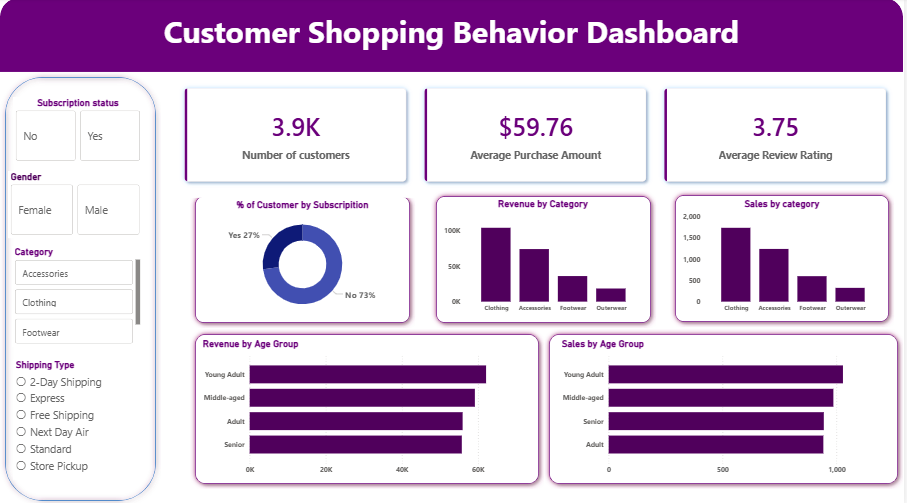

The dashboard page shown, as its layout file describes it:
{"tool":"powerbi","page":{"name":"Page 1","canvas":[1600,900],"ordinal":0},"visuals":[{"type":"shape","box":[336.6,586.4,627.2,283.5],"z":0},{"type":"shape","box":[336.6,341.9,398.6,242.7],"z":1000},{"type":"cardVisual","fields":{"Data":["public customer.Number of customers","public customer.Average Purchase Amount","public customer.Average Review Rating"]},"box":[297.6,131.1,1302.2,223.2],"z":2000},{"type":"shape","box":[0,0,1599.8,131.1],"z":3000},{"type":"textbox","box":[0,15.9,1599.8,115.2],"z":4000},{"type":"donutChart","title":"% of Customer by Subscripition","fields":{"Category":["public customer.subscription_status"],"Y":["CountNonNull(public customer.customer_id)"]},"box":[354.3,356.1,363.2,212.6],"z":5000},{"type":"shape","box":[763.6,341.9,398.6,242.7],"z":6000},{"type":"clusteredColumnChart","title":"Revenue by Category","fields":{"Category":["public customer.category"],"Y":["Sum(public customer.purchase_amount)"]},"box":[780.4,354.3,361.4,212.6],"z":7000},{"type":"shape","box":[1187,340.2,396.9,242.7],"z":8000},{"type":"clusteredColumnChart","title":"Sales by category","fields":{"Category":["public customer.category"],"Y":["CountNonNull(public customer.customer_id)"]},"box":[1204.7,354.3,361.4,212.6],"z":9000},{"type":"shape","box":[0,131.1,285.2,768.9],"z":10000},{"type":"advancedSlicerVisual","title":"Subscription status","fields":{"Values":["public customer.subscription_status"]},"box":[23,175.4,230.3,118.7],"z":11000},{"type":"advancedSlicerVisual","title":"Gender","fields":{"Values":["public customer.gender"]},"box":[14.2,306.5,239.2,118.7],"z":12000},{"type":"advancedSlicerVisual","title":"Category","fields":{"Values":["public customer.category"]},"box":[21.3,439.4,232.1,178.9],"z":13000},{"type":"listSlicer","title":"Shipping Type","fields":{"Values":["public customer.shipping_type"]},"box":[23,639.6,230.3,214.4],"z":14000},{"type":"clusteredBarChart","title":"Revenue by Age Group","fields":{"Category":["public customer.age_group"],"Y":["Sum(public customer.purchase_amount)"]},"box":[354.3,602.4,575.8,251.6],"z":15000},{"type":"shape","box":[963.8,586.4,636,283.5],"z":16000},{"type":"clusteredBarChart","title":"Sales by Age Group","fields":{"Category":["public customer.age_group"],"Y":["CountNonNull(public customer.customer_id)"]},"box":[990.4,602.4,593.5,251.6],"z":17000}]}

Visuals, with their boxes in screenshot pixels (x1, y1, x2, y2), scaled from the page's 1600x900 canvas onto the 907x503 screenshot:
shape: rect(191, 328, 546, 486)
shape: rect(191, 191, 417, 327)
cardVisual - public customer.Number of customers x public customer.Average Purchase Amount: rect(169, 73, 906, 198)
shape: rect(0, 0, 906, 73)
textbox: rect(0, 9, 906, 73)
"% of Customer by Subscripition" donutChart: rect(201, 199, 407, 318)
shape: rect(433, 191, 659, 327)
"Revenue by Category" clusteredColumnChart: rect(442, 198, 647, 317)
shape: rect(673, 190, 898, 326)
"Sales by category" clusteredColumnChart: rect(683, 198, 888, 317)
shape: rect(0, 73, 162, 502)
"Subscription status" advancedSlicerVisual: rect(13, 98, 144, 164)
"Gender" advancedSlicerVisual: rect(8, 171, 144, 238)
"Category" advancedSlicerVisual: rect(12, 246, 144, 346)
"Shipping Type" listSlicer: rect(13, 357, 144, 477)
"Revenue by Age Group" clusteredBarChart: rect(201, 337, 527, 477)
shape: rect(546, 328, 906, 486)
"Sales by Age Group" clusteredBarChart: rect(561, 337, 898, 477)
